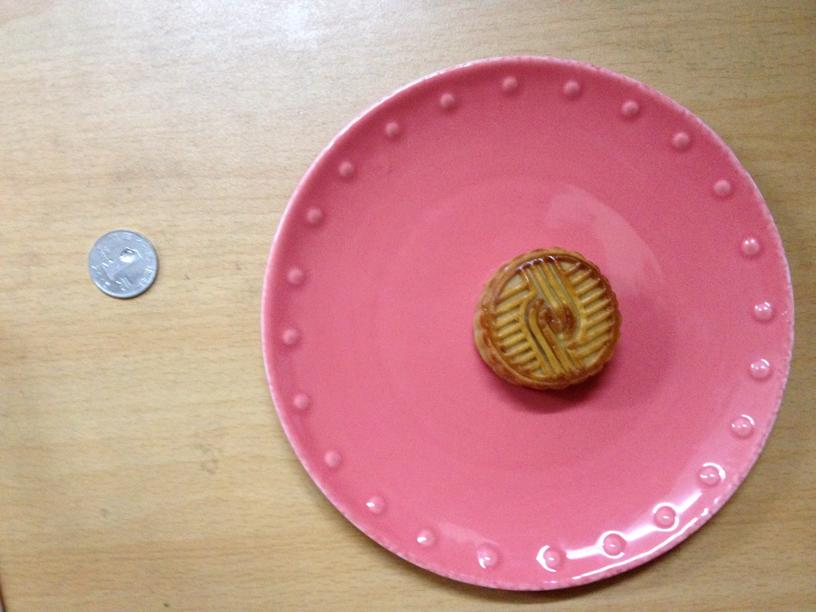coin: (86, 227, 159, 299)
mooncake: (476, 243, 622, 389)
